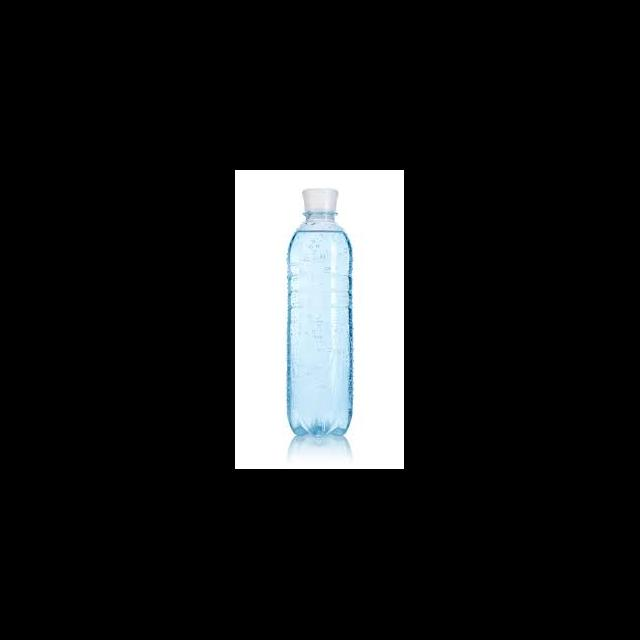plastic: (286, 188, 354, 436), (302, 186, 338, 214)
